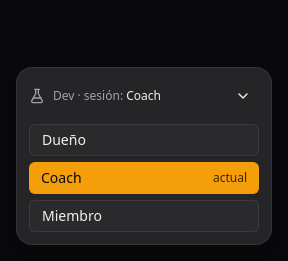
DevRoleSwitcher - cambio de usuario › con otro error muestra el mensaje genérico de backend caído
Click the button "Dueño" at (144, 140), box [29,124,259,156]
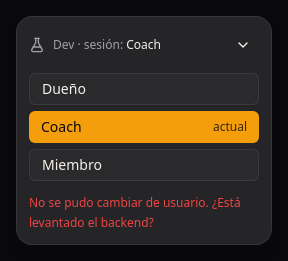
expect the message shows "No se pudo cambiar de usuario": met, box [29,194,241,230]
